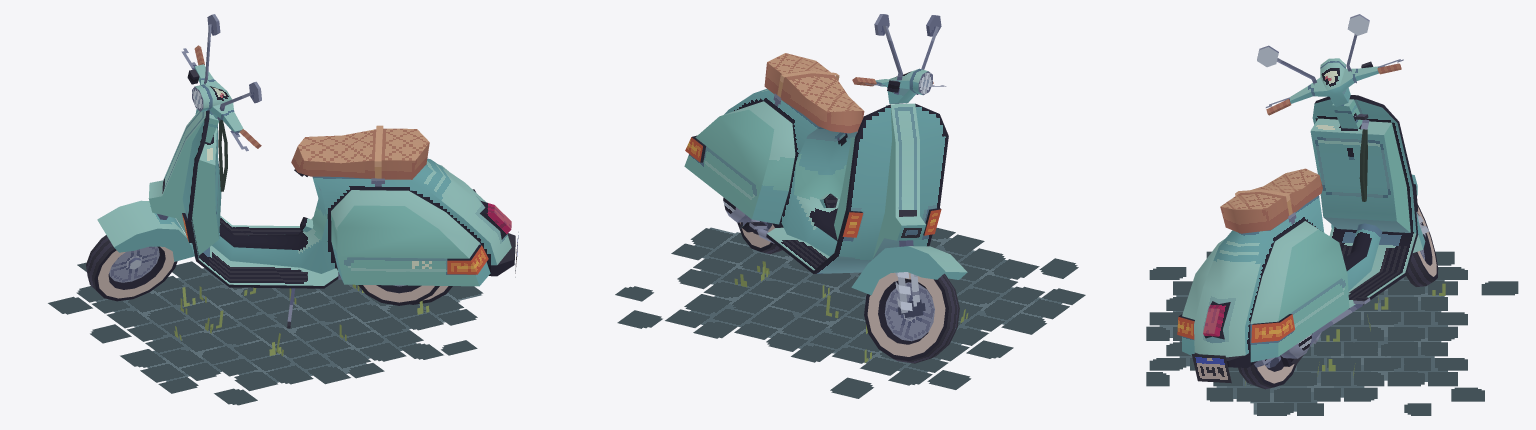
3 views of the same model, side by side, from view 1: azimuth 30°, elevation 25°; view 2: azimuth 150°, elevation 25°; view 3: azimuth 270°, elevation 25° (orthographic). The views are drawn at different scales.
Visible parts, largest first — view 1: Corpo_base_7, pavimento_6, object 7, Rodas_dianteira_14, object 1, Motor_8, chave_12; view 2: Corpo_base_7, pavimento_6, object 7, Rodas_dianteira_14, Roda_traseira_13, Motor_8, object 1; view 3: Corpo_base_7, pavimento_6, object 7, Motor_8, Rodas_dianteira_14, Roda_traseira_13, chave_12, object 1.
Part boxes in pixels (box(x1,y1,x2,y2)): Corpo_base_7: box(148, 109, 511, 305); pavimento_6: box(48, 261, 483, 405); object 7: box(97, 14, 261, 269); Rodas_dianteira_14: box(86, 235, 177, 301); object 1: box(174, 284, 429, 356); Motor_8: box(336, 232, 518, 277); chave_12: box(218, 120, 227, 191); Corpo_base_7: box(684, 53, 948, 273); pavimento_6: box(615, 227, 1085, 398); object 7: box(851, 14, 967, 318); Rodas_dianteira_14: box(864, 272, 959, 363); Roda_traseira_13: box(737, 221, 782, 254); Motor_8: box(723, 197, 783, 232); object 1: box(734, 261, 968, 362); Corpo_base_7: box(1177, 95, 1418, 362); pavimento_6: box(1146, 251, 1518, 415); object 7: box(1257, 14, 1428, 252); Motor_8: box(1191, 297, 1370, 383); Rodas_dianteira_14: box(1406, 204, 1438, 286); Roda_traseira_13: box(1238, 356, 1296, 389); chave_12: box(1354, 114, 1369, 201); object 1: box(1245, 283, 1445, 385).
Size of the model in its own units: 7.61 by 6 by 6.93.
3 materials, 3 textured.
